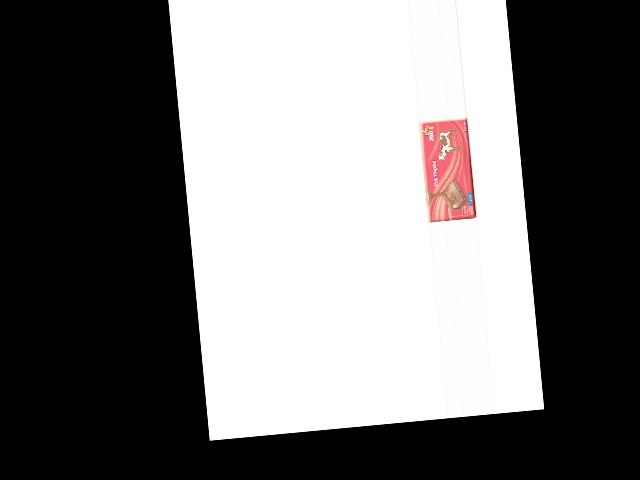chocolate: (418, 116, 476, 223)
